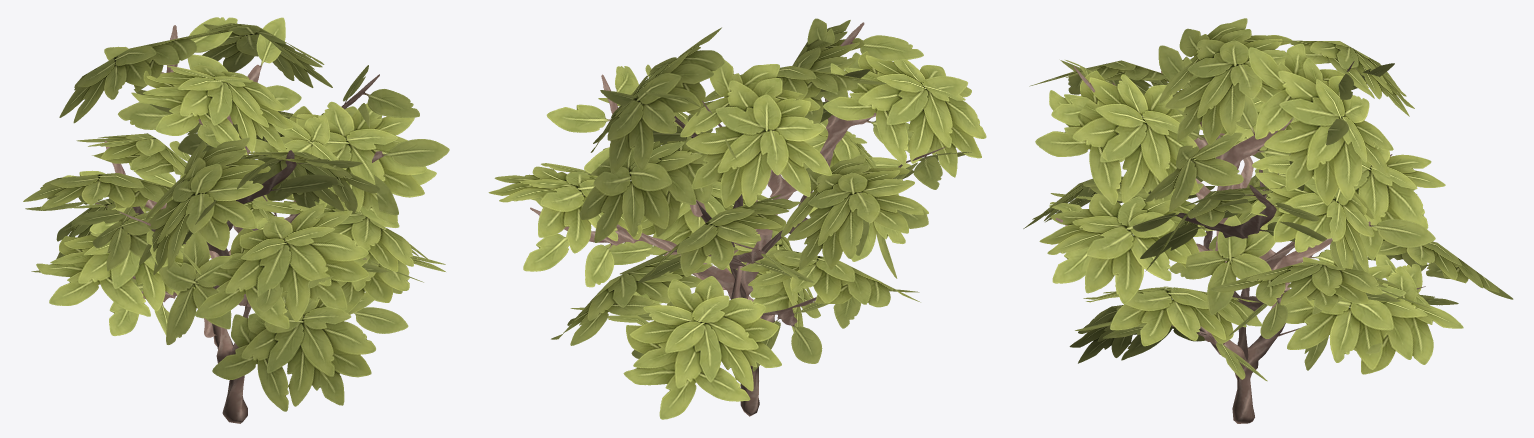
The model's file is Bush03.fbx.
3 renders of one model, left to right at view 1: azimuth 30°, elevation 25°; view 2: azimuth 150°, elevation 25°; view 3: azimuth 270°, elevation 25°, orthographic.
Parts seen in each view (by area): view 1: Bush03; view 2: Bush03; view 3: Bush03.
Boxes of the visible parts, box(x1,y1,x2,y2) form: Bush03: box(23, 17, 449, 423); Bush03: box(488, 18, 986, 419); Bush03: box(1023, 18, 1513, 423).
Size of the model in its own units: 245 by 217 by 251.
Materials: 1 (1 with a texture image).
